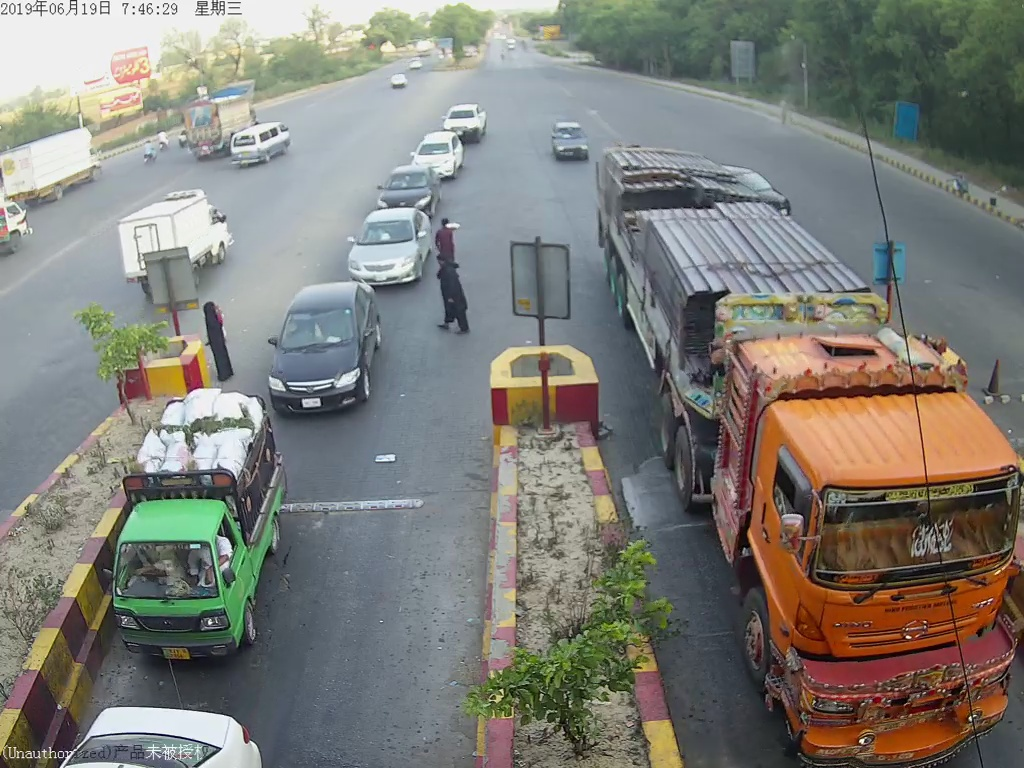Cat-1: (109, 395, 292, 668), (273, 290, 385, 414), (339, 210, 433, 283), (550, 114, 589, 170)
Cat-5: (589, 136, 1024, 744)
